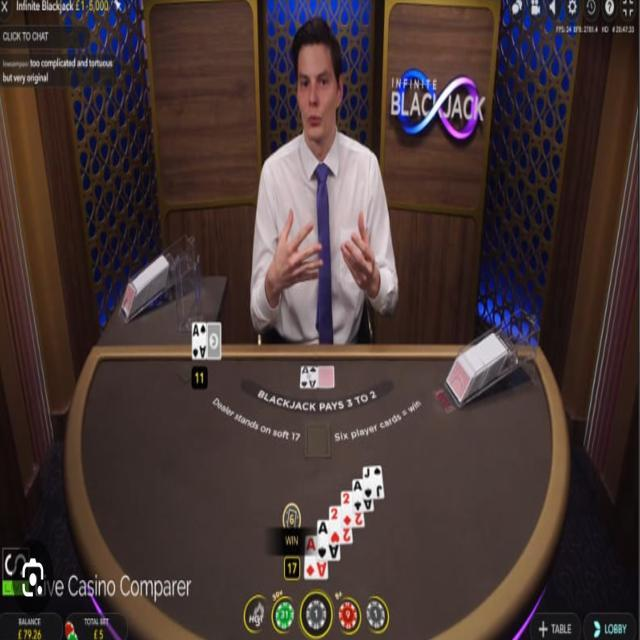Card-2: (330, 506, 353, 543), (342, 492, 364, 527)
Card-A: (304, 535, 328, 580), (317, 519, 340, 559), (353, 479, 374, 513), (301, 364, 319, 388)
Card-J: (363, 463, 385, 497)
